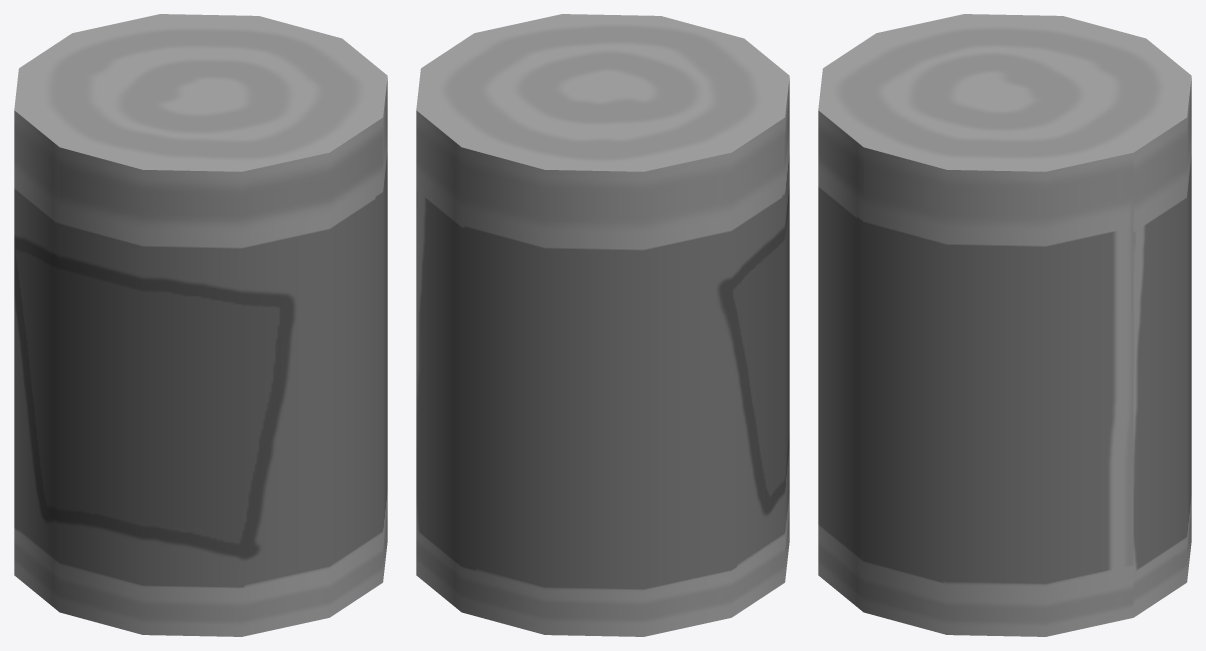
File: obj_CanOfBeans.fbx
3 views of the same model, side by side, from view 1: azimuth 30°, elevation 25°; view 2: azimuth 150°, elevation 25°; view 3: azimuth 270°, elevation 25° (orthographic).
Parts seen in each view (by area): view 1: obj_CanOfBeans; view 2: obj_CanOfBeans; view 3: obj_CanOfBeans.
Boxes of the visible parts, <box> form: obj_CanOfBeans: <box>14,14,387,636</box>; obj_CanOfBeans: <box>416,14,789,636</box>; obj_CanOfBeans: <box>818,14,1191,636</box>.
Bounding box in the file's own units: 0.1079 × 0.1483 × 0.1079.
